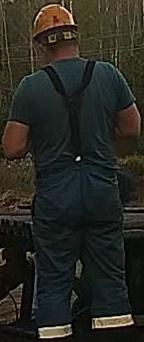helmet: (30, 4, 80, 44)
